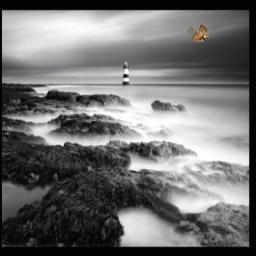Cuckoo: (186, 25, 210, 43)
